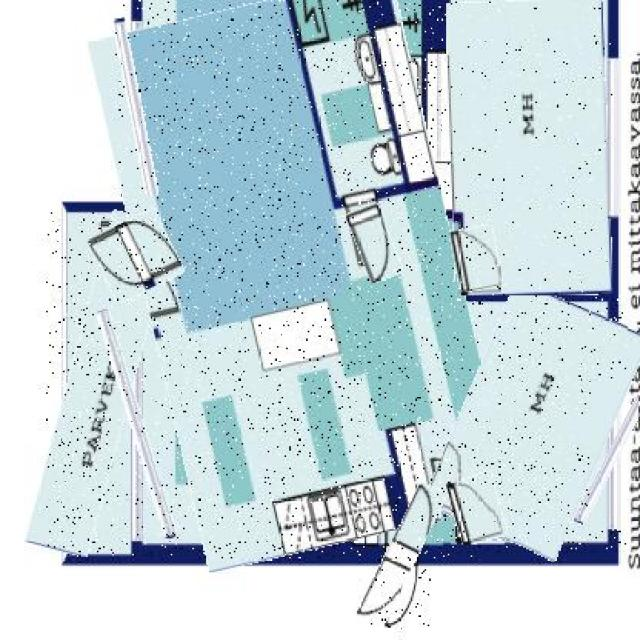door: (371, 482, 431, 629), (94, 214, 180, 297), (450, 476, 504, 544), (352, 204, 398, 282), (452, 226, 502, 291)
window: (116, 306, 162, 542), (591, 378, 635, 530), (122, 17, 150, 197), (610, 58, 618, 218)
zone: (115, 0, 482, 558), (443, 292, 628, 554), (449, 0, 610, 295), (46, 211, 152, 557)
